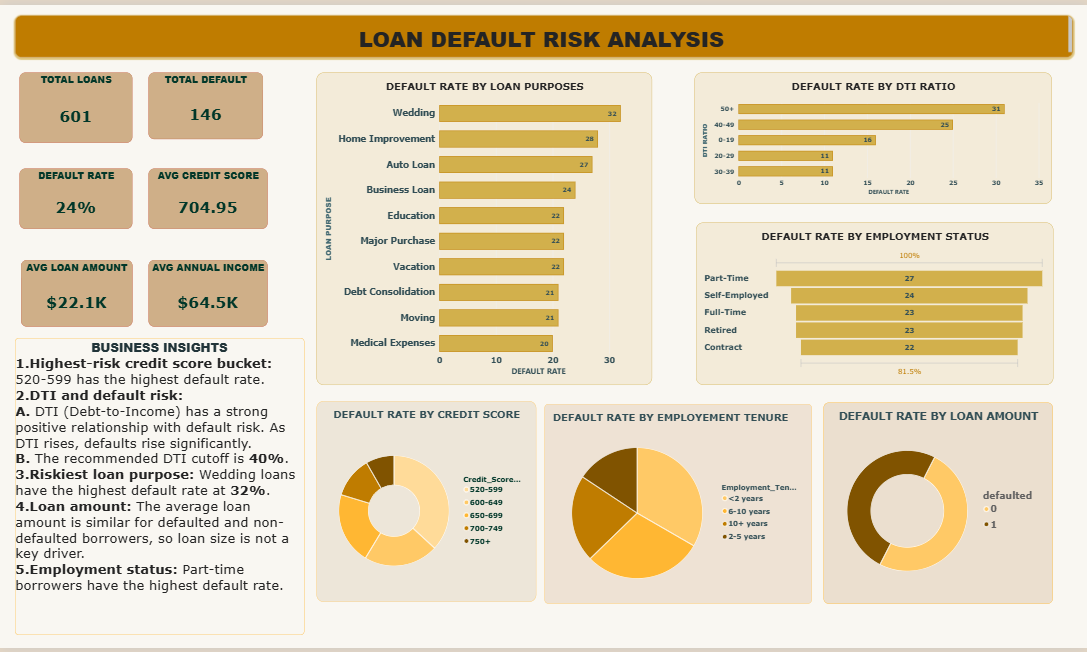

The page's visual inventory and layout, read from the dashboard file:
{"tool":"powerbi","page":{"name":"Page 1","canvas":[2200,1300],"ordinal":0},"visuals":[{"type":"textbox","box":[31.2,21.9,2137.5,84.4],"z":0},{"type":"cardVisual","title":"TOTAL LOANS","fields":{"Data":["CountNonNull(loan_applications.loan_id)"]},"box":[40.6,137.5,228.1,142],"z":1000},{"type":"cardVisual","title":"TOTAL DEFAULT","fields":{"Data":["Sum(loan_applications.defaulted)"]},"box":[300,137.5,231.2,134.4],"z":2000},{"type":"cardVisual","title":"DEFAULT RATE","fields":{"Data":["loan_applications.Default Rate"]},"box":[40.6,331.2,228.1,121.9],"z":3000},{"type":"cardVisual","title":"AVG CREDIT SCORE","fields":{"Data":["Avg(borrower_profiles.credit_score)"]},"box":[300,331.2,240.6,121.9],"z":4000},{"type":"cardVisual","title":"AVG LOAN AMOUNT","fields":{"Data":["Avg(loan_applications.loan_amount)"]},"box":[43.8,515.6,225,134.4],"z":5000},{"type":"cardVisual","title":"AVG ANNUAL INCOME","fields":{"Data":["Avg(borrower_profiles.annual_income)"]},"box":[300,515.6,240.6,134.4],"z":6000},{"type":"barChart","title":"DEFAULT RATE BY LOAN PURPOSES","fields":{"Category":["Default rate by loan_purposes.loan_purpose"],"Y":["Sum(Default rate by loan_purposes.default_percent)"]},"box":[640.6,137.5,678.1,631.2],"z":7000},{"type":"barChart","title":"DEFAULT RATE BY DTI RATIO","fields":{"Category":["Default rate by dti_ratio.dti_ratio_bucket"],"Y":["Sum(Default rate by dti_ratio.default_percent)"]},"box":[1403.1,137.5,721.9,265.6],"z":8000},{"type":"funnel","title":"DEFAULT RATE BY EMPLOYMENT STATUS","fields":{"Category":["Default rate by employement_status.employment_status"],"Y":["Sum(Default rate by employement_status.default_percent)"]},"box":[1406.2,440.6,721.9,328.1],"z":9000},{"type":"pieChart","title":"DEFAULT RATE BY CREDIT SCORE","fields":{"Category":["Default rate by Credit score buckets.credit_score_buckets"],"Y":["Sum(Default rate by Credit score buckets.default_percent)"]},"box":[640.6,800,443.8,406.2],"z":10000},{"type":"donutChart","title":"DEFAULT RATE BY LOAN AMOUNT","fields":{"Category":["Defaults by loan_amount.defaulted"],"Y":["CountNonNull(Defaults by loan_amount.Average_loan_amount)"]},"box":[1663.3,803.3,463.3,406.7],"z":12000},{"type":"pieChart","title":"DEFAULT RATE BY EMPLOYEMENT TENURE","fields":{"Category":["Default rate by employment_tenure.employment_tenure"],"Y":["Sum(Default rate by employment_tenure.default_percent)"]},"box":[1100,806.7,540,403.3],"z":12001},{"type":"textbox","box":[31.2,671.9,584.4,600],"z":12002}]}

Visuals, with their boxes in screenshot pixels (x1, y1, x2, y2), scaled from the page's 2200x1300 canvas onto the 1087x652 screenshot:
textbox: 15 11 1072 53
"TOTAL LOANS" cardVisual: 20 69 133 140
"TOTAL DEFAULT" cardVisual: 148 69 262 136
"DEFAULT RATE" cardVisual: 20 166 133 227
"AVG CREDIT SCORE" cardVisual: 148 166 267 227
"AVG LOAN AMOUNT" cardVisual: 22 259 133 326
"AVG ANNUAL INCOME" cardVisual: 148 259 267 326
"DEFAULT RATE BY LOAN PURPOSES" barChart: 317 69 652 386
"DEFAULT RATE BY DTI RATIO" barChart: 693 69 1050 202
"DEFAULT RATE BY EMPLOYMENT STATUS" funnel: 695 221 1051 386
"DEFAULT RATE BY CREDIT SCORE" pieChart: 317 401 536 605
"DEFAULT RATE BY LOAN AMOUNT" donutChart: 822 403 1051 607
"DEFAULT RATE BY EMPLOYEMENT TENURE" pieChart: 544 405 810 607
textbox: 15 337 304 638
